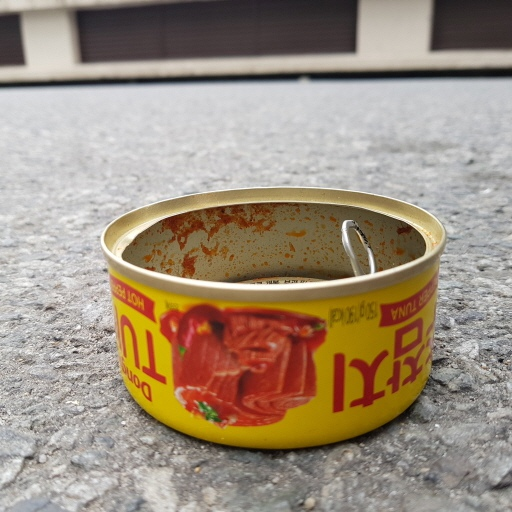Metal_1: (98, 185, 450, 445)
